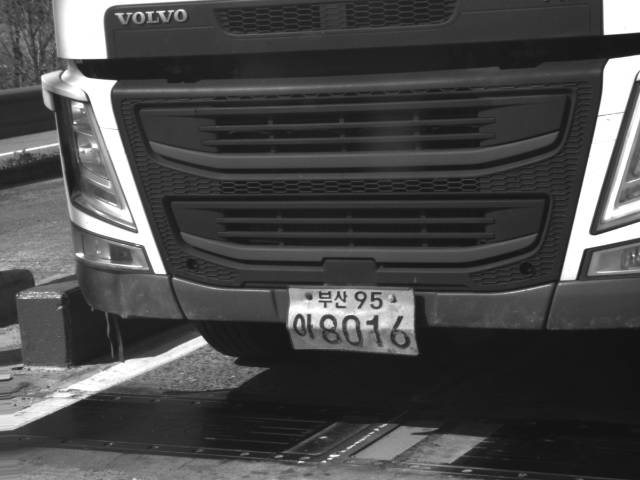car: (39, 1, 639, 366)
plate: (286, 284, 418, 355)
